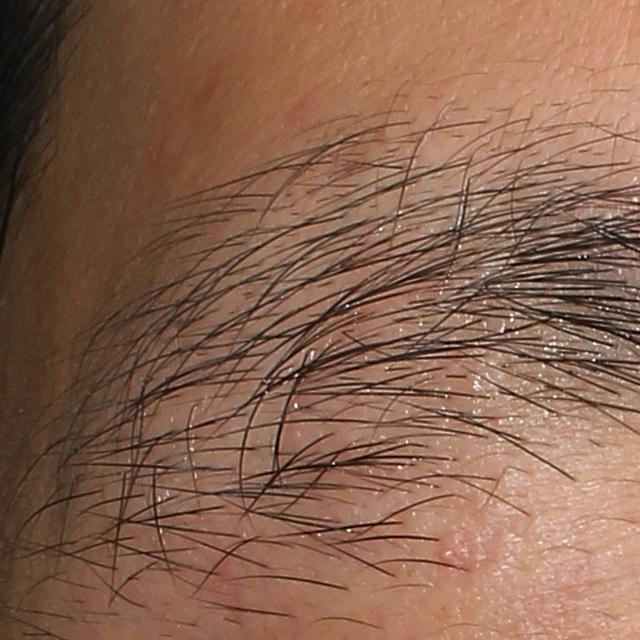papule: (436, 541, 460, 566)
